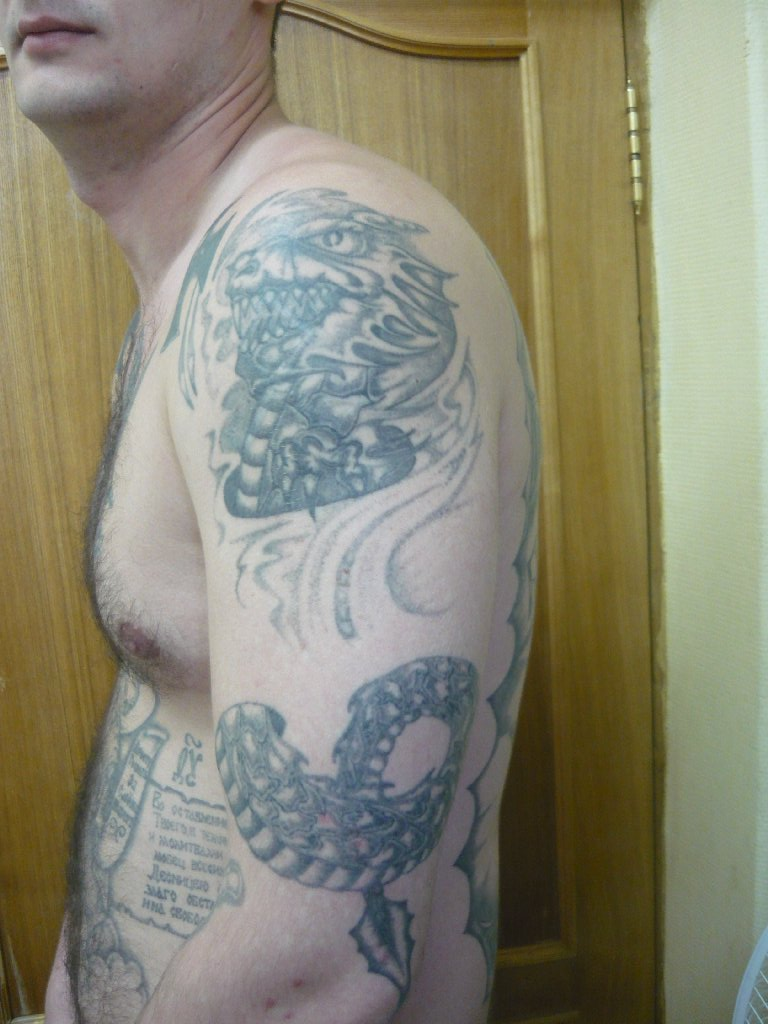tatu3_bukva: (163, 183, 541, 1024)
